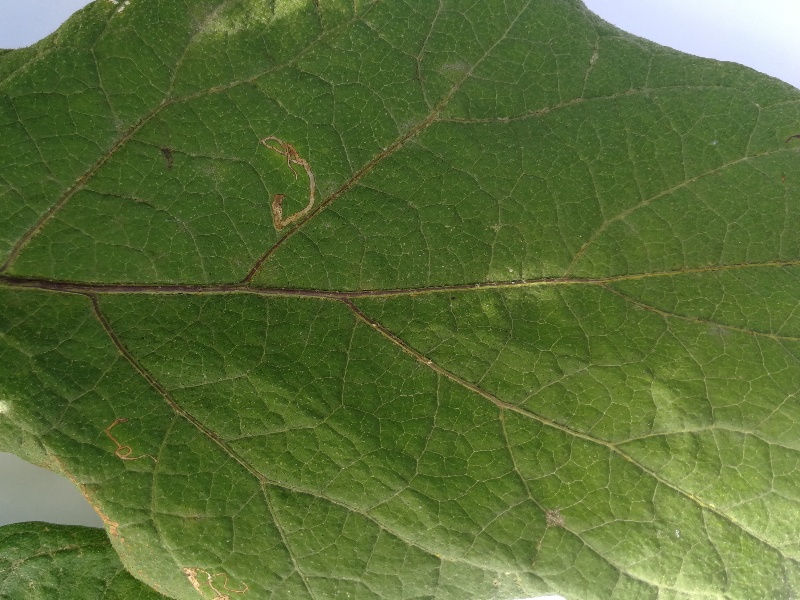leafminer: (248, 127, 333, 244)
